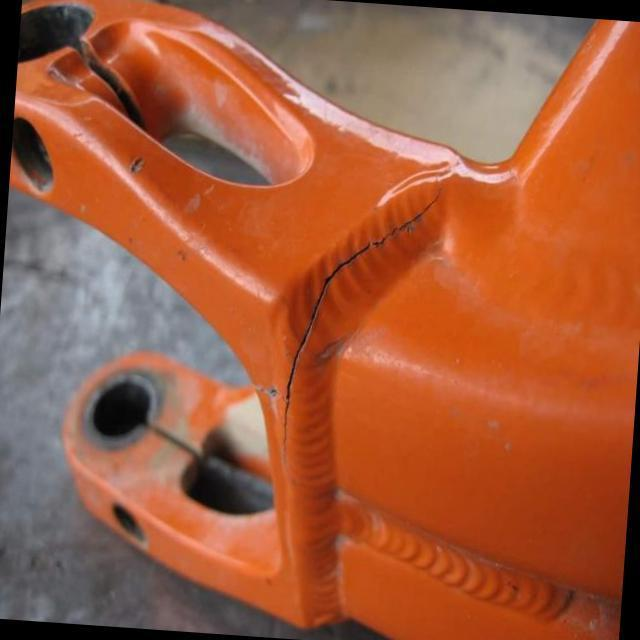defect: (251, 173, 447, 490)
